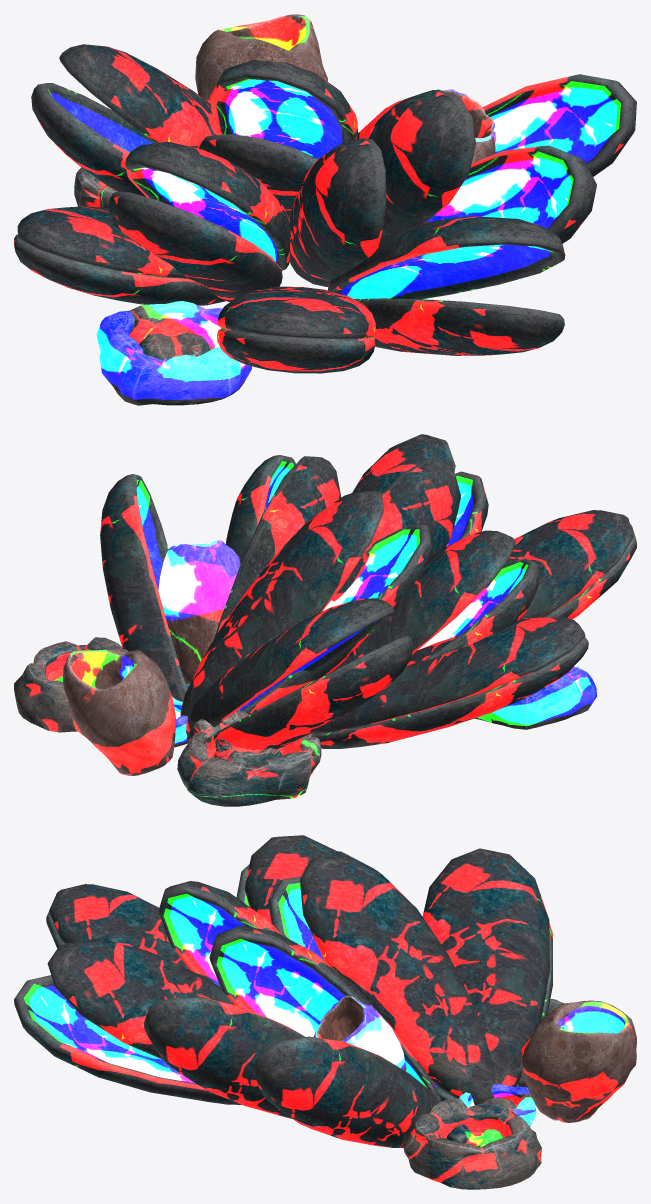
Rendered from SM_Barnacle_C_03.fbx.
The picture shows the model from 3 angles, top to bottom: view 1: azimuth 30°, elevation 25°; view 2: azimuth 150°, elevation 25°; view 3: azimuth 270°, elevation 25°; orthographic projection. The views are drawn at different scales.
Parts seen in each view (by area): view 1: SM_Barnacle_C_03_LOD0; view 2: SM_Barnacle_C_03_LOD0; view 3: SM_Barnacle_C_03_LOD0.
Boxes of the visible parts, x1=… form: SM_Barnacle_C_03_LOD0: x1=14, y1=14, x2=636, y2=405; SM_Barnacle_C_03_LOD0: x1=14, y1=434, x2=636, y2=806; SM_Barnacle_C_03_LOD0: x1=14, y1=835, x2=636, y2=1189.
Bounding box in the file's own units: 133 × 149 × 57.37.
Materials: 3 (3 with a texture image).
